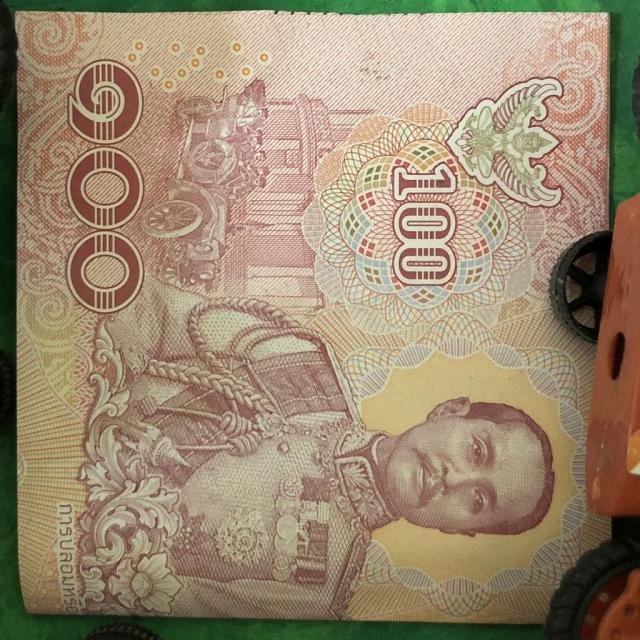THAI100: (13, 11, 611, 628)
